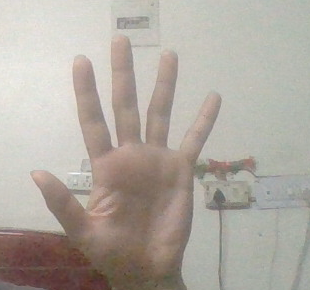move: (32, 30, 221, 290)
